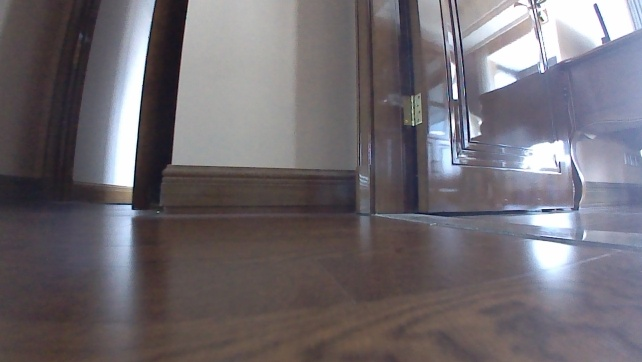door_anno: (370, 0, 576, 218)
